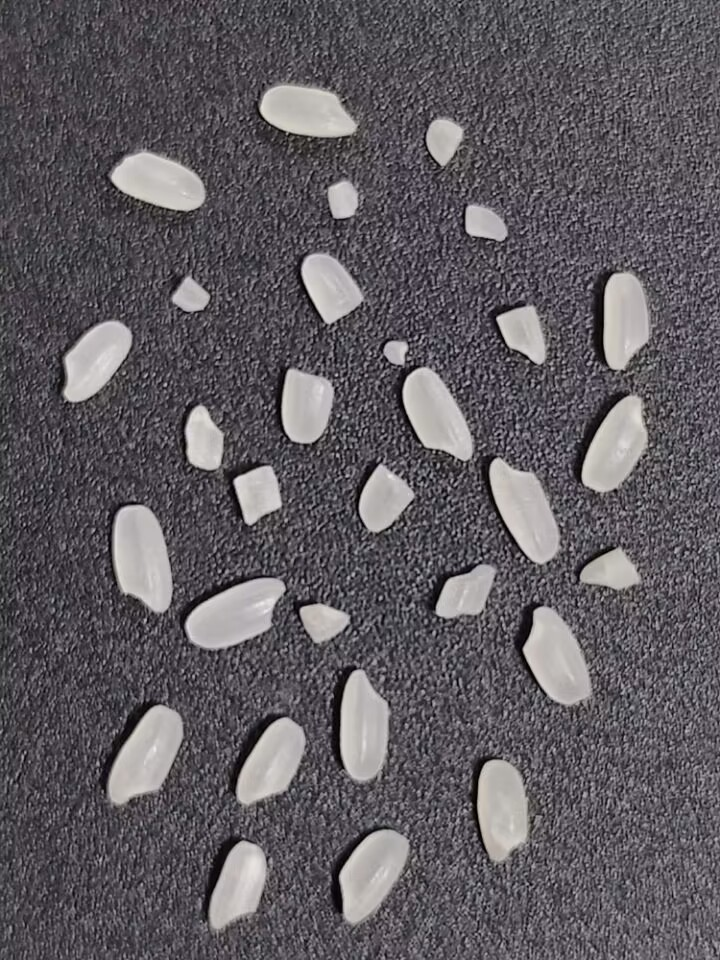broken: (273, 359, 341, 448), (297, 248, 367, 327), (351, 460, 421, 534), (492, 302, 558, 374), (227, 461, 291, 530), (433, 560, 498, 619), (182, 400, 230, 473), (578, 544, 642, 594), (295, 597, 353, 646), (423, 112, 469, 167), (323, 176, 365, 230), (169, 274, 217, 316), (463, 201, 509, 241), (380, 333, 412, 373)
rice: (483, 449, 567, 565), (574, 385, 652, 494), (520, 604, 594, 715), (186, 575, 288, 653), (106, 704, 183, 807), (335, 825, 414, 925), (400, 364, 477, 463), (110, 504, 173, 614), (232, 716, 306, 809), (337, 664, 391, 782), (110, 149, 207, 212), (60, 319, 131, 403), (476, 759, 533, 863), (257, 84, 358, 137), (208, 840, 267, 930), (600, 272, 652, 372)
